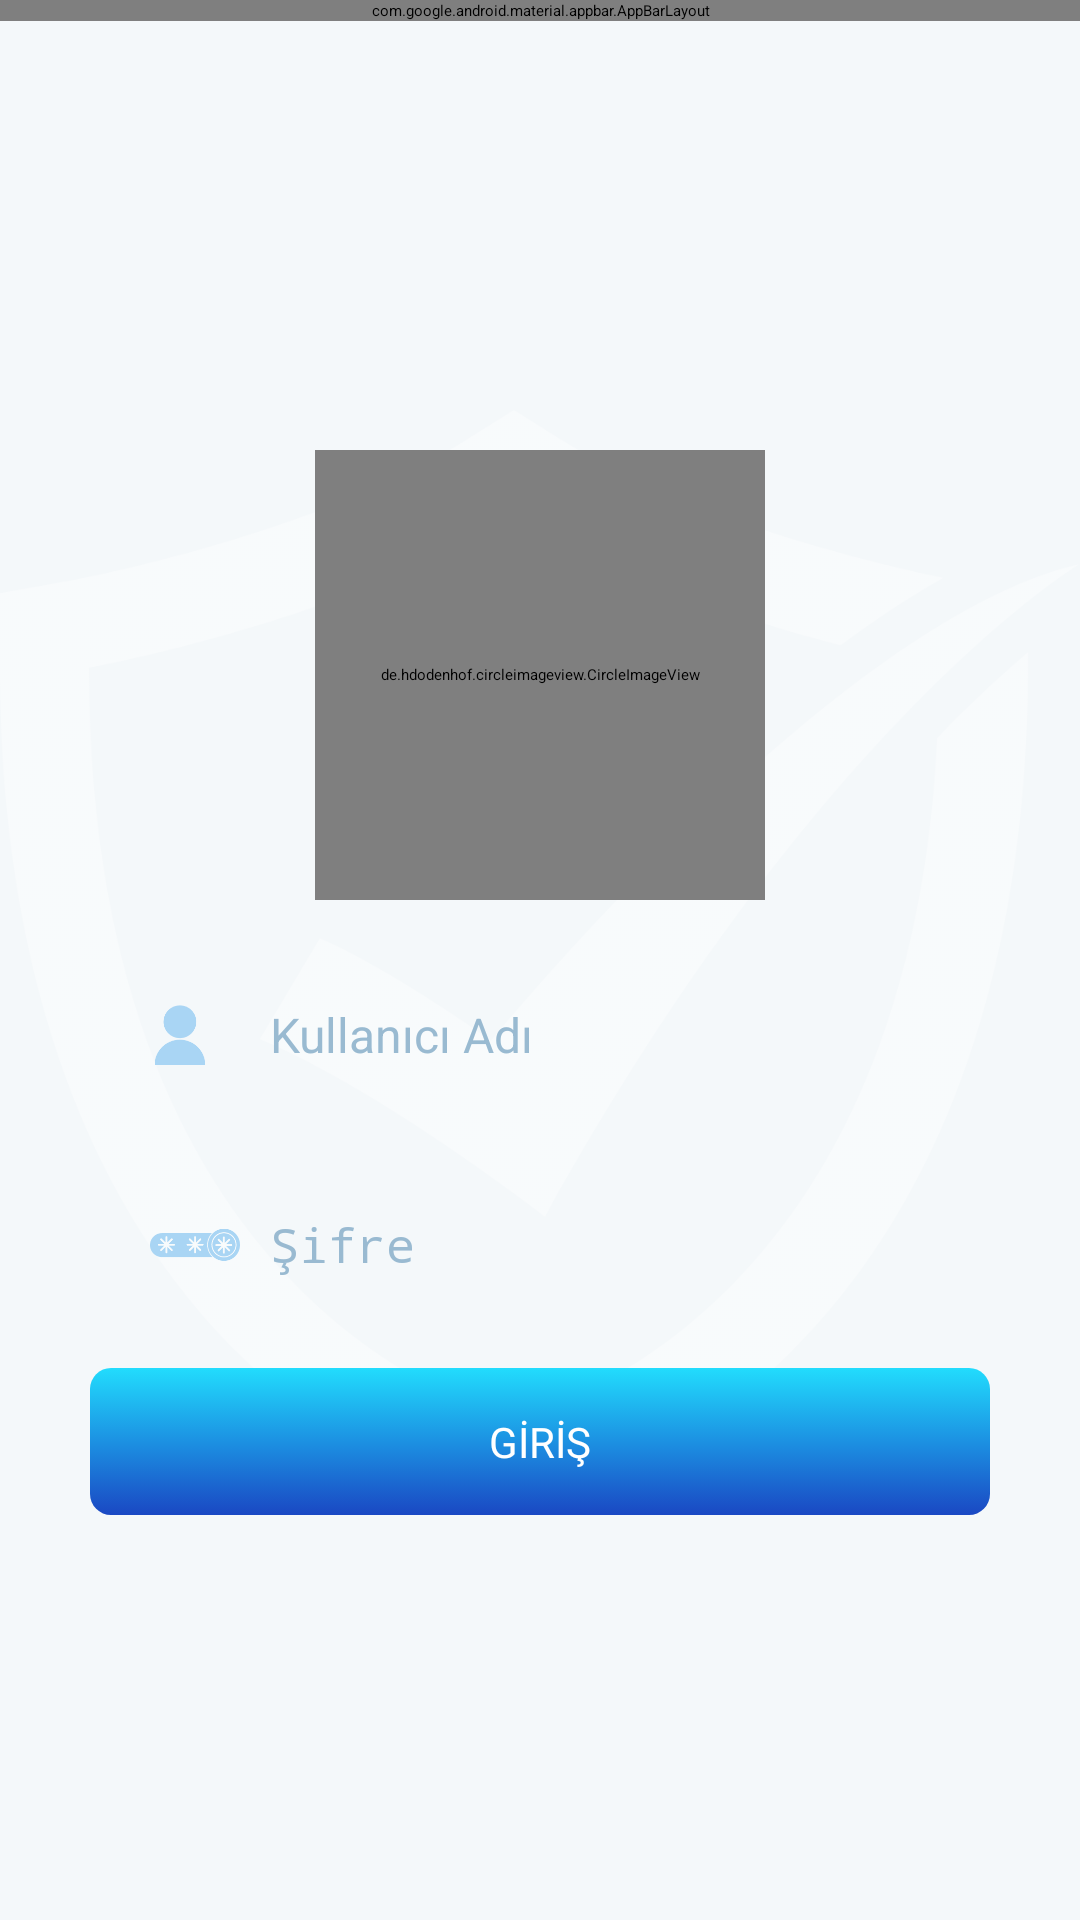

Icon click points for this 1080 x 1920 phone screenshot, format (x=x, y=y):
user name: (x=180, y=1035)
user password: (x=195, y=1245)
